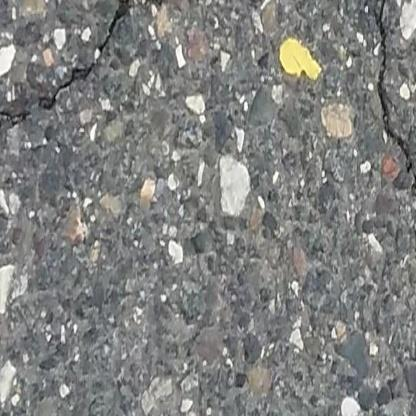Cracks: (0, 0, 187, 164), (366, 0, 416, 297)
